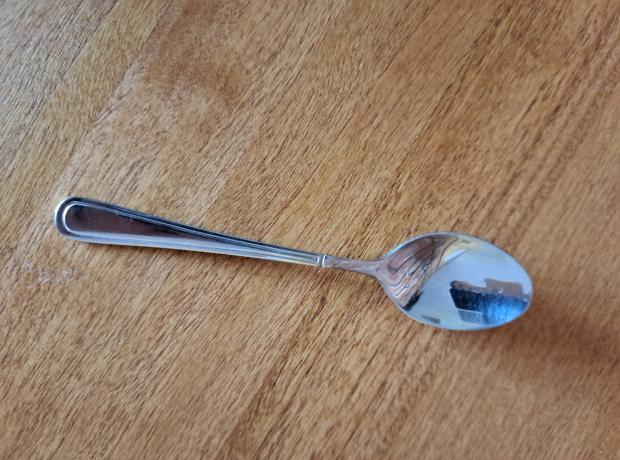metal: (52, 197, 535, 340)
